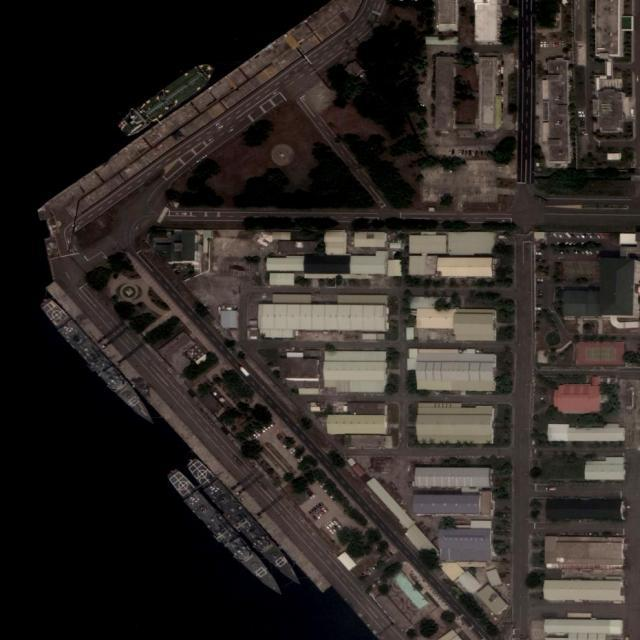Frigate: (164, 465, 288, 604), (184, 454, 302, 590), (39, 297, 158, 429)
Oil Tanker: (116, 58, 218, 138)
